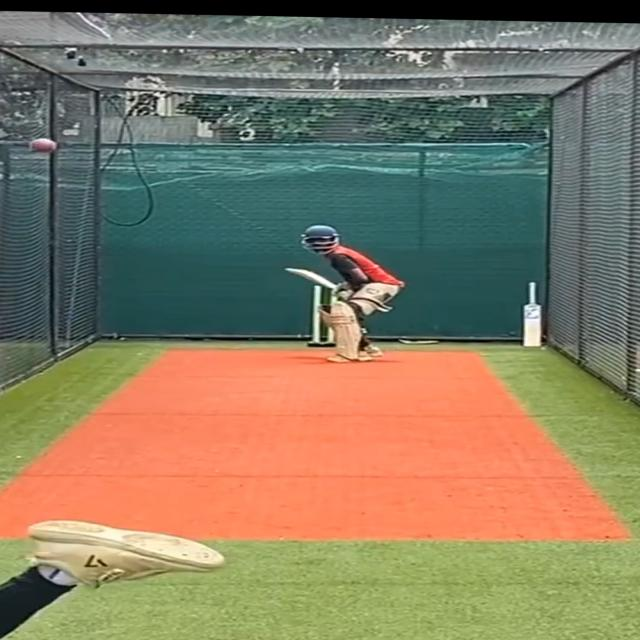ball: (28, 137, 57, 158)
stump: (308, 281, 342, 347)
